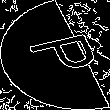P_E: (12, 29, 98, 81)
